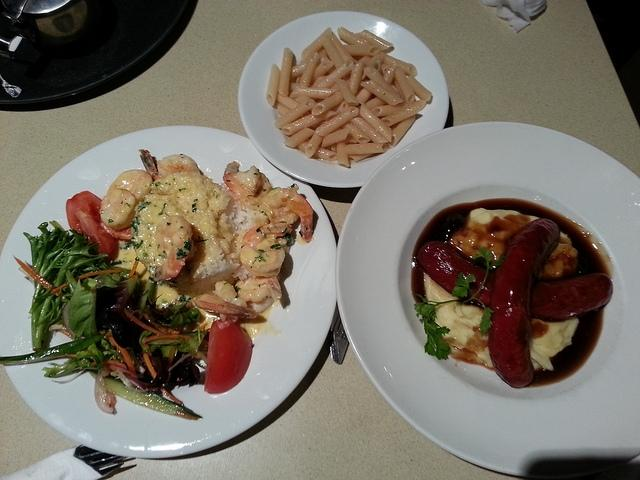tomato: (204, 319, 253, 394), (66, 191, 117, 255)
